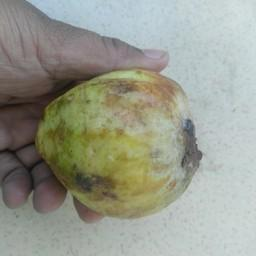Bad_guava: (32, 68, 197, 222)
